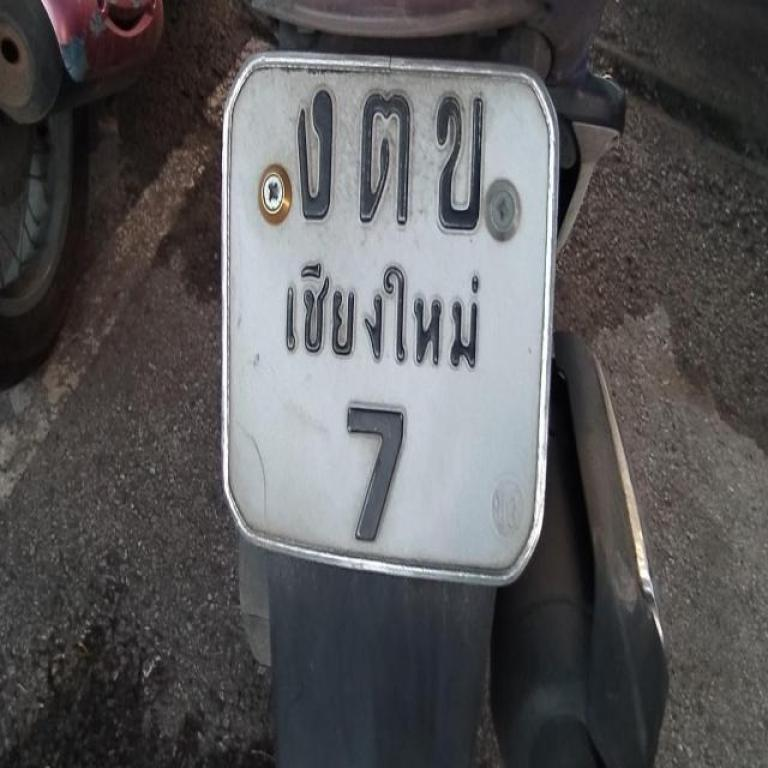license plate: (214, 36, 563, 598)
